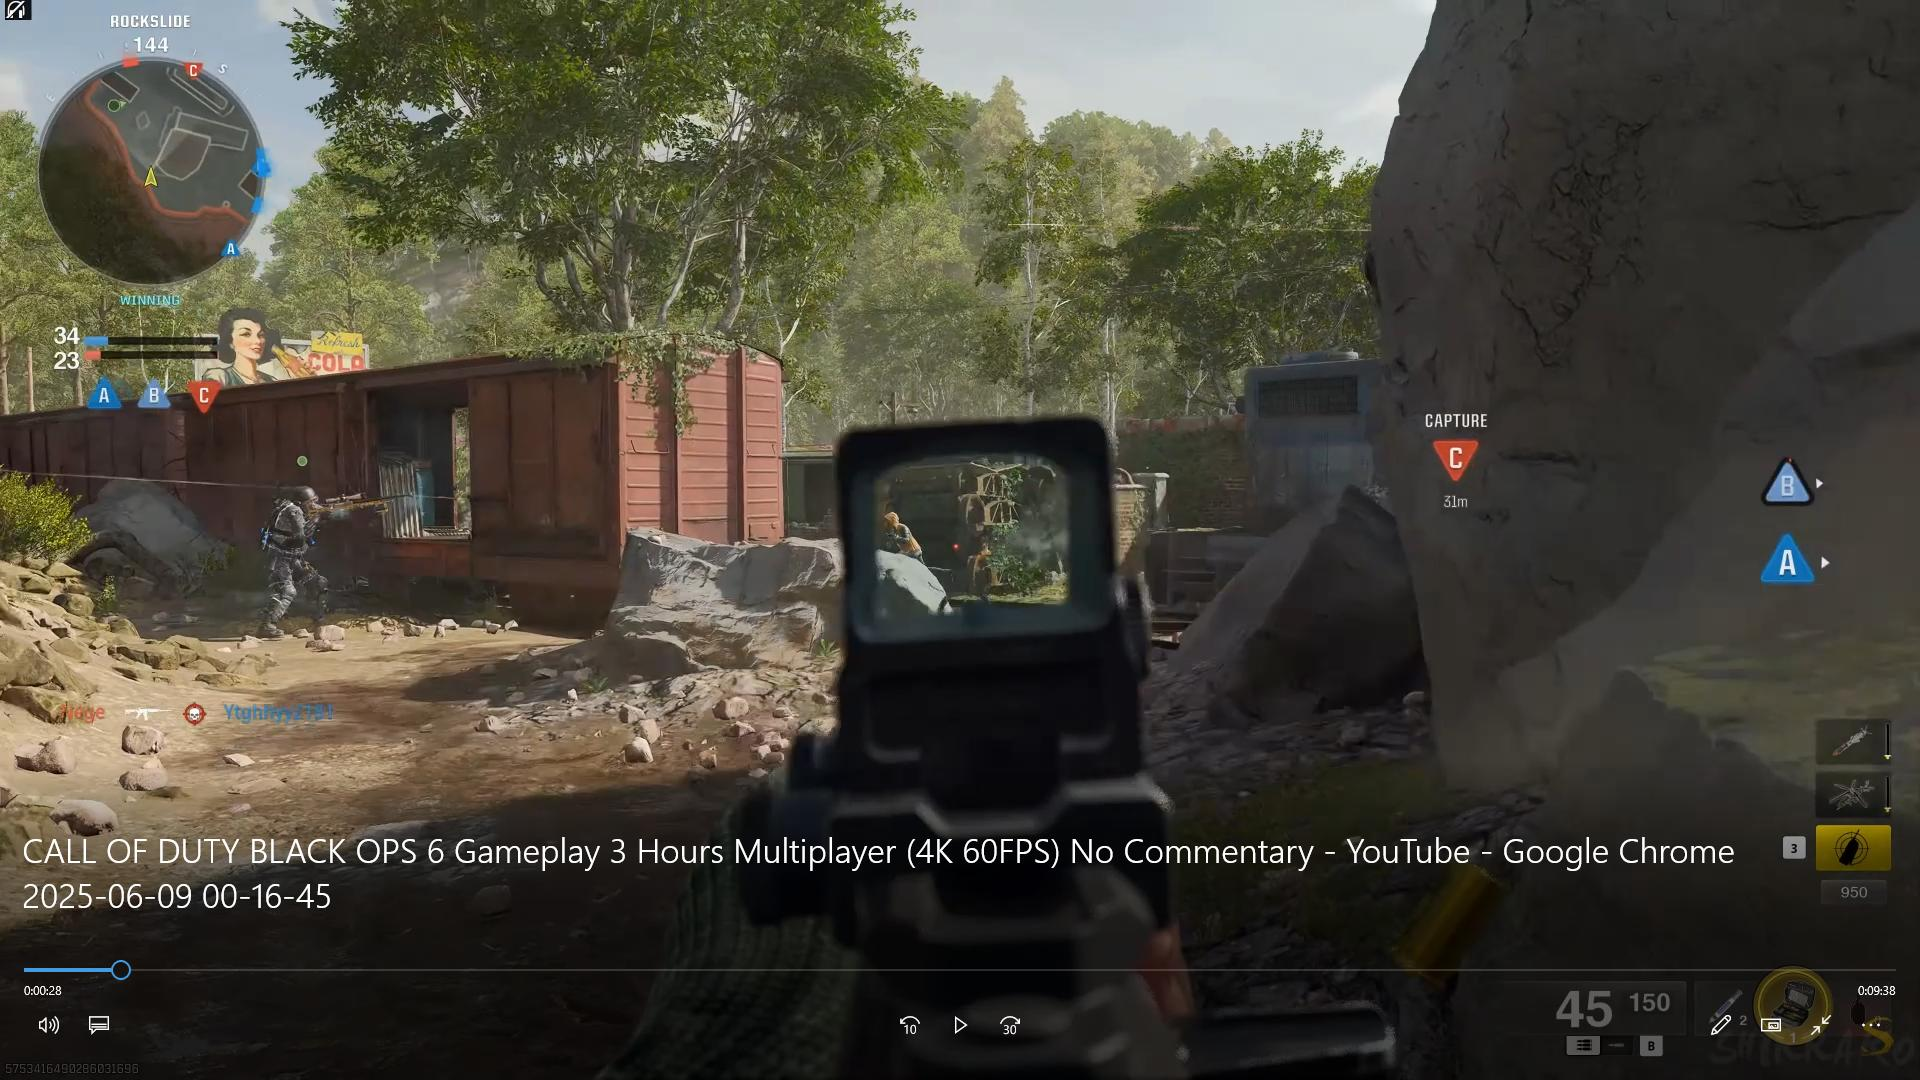Enemy: (258, 479, 340, 633), (878, 500, 927, 556)
